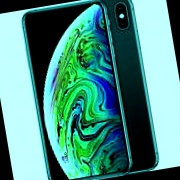iphone: (59, 1, 148, 180)
